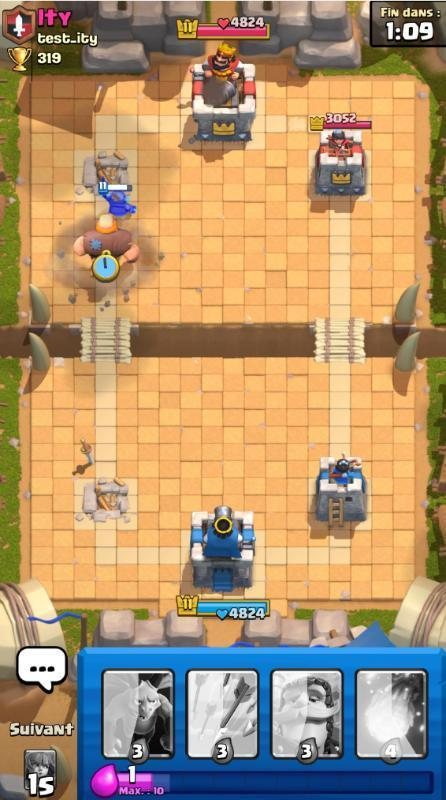player_giant: (71, 214, 143, 271)
player_mini_pekka: (95, 179, 139, 222)
